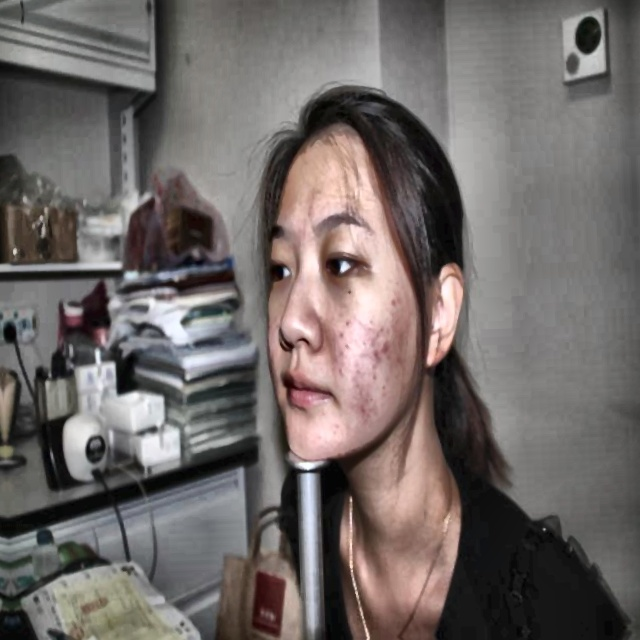comedone: (353, 396, 368, 424), (380, 334, 389, 355), (392, 291, 400, 308), (393, 358, 405, 368)
